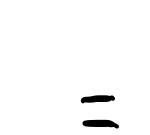eqv: (80, 94, 119, 129)
